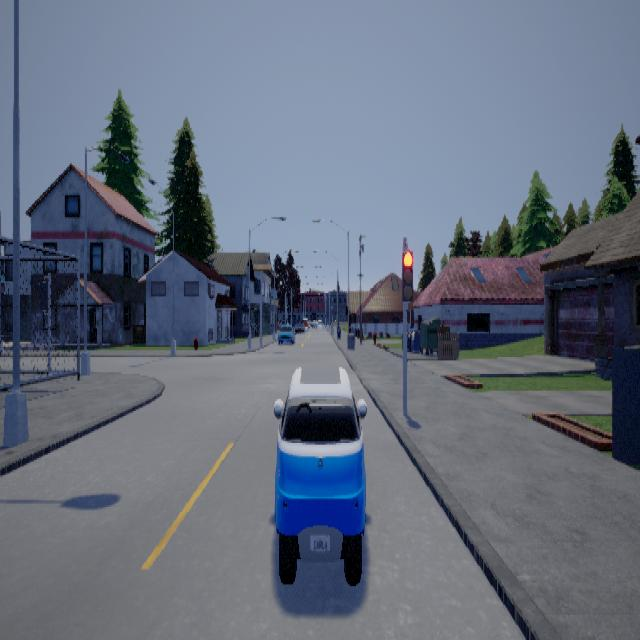red_light: (401, 239, 412, 310)
vehicle: (272, 364, 366, 584), (276, 316, 294, 344)
